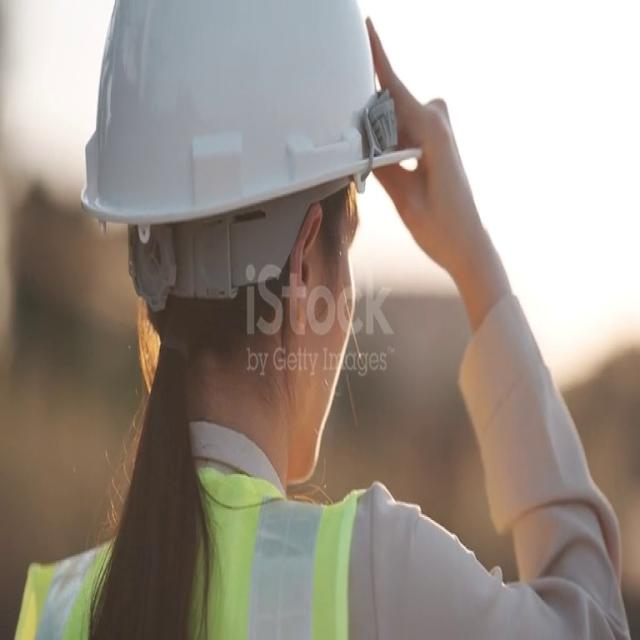capacete: (67, 0, 439, 249)
